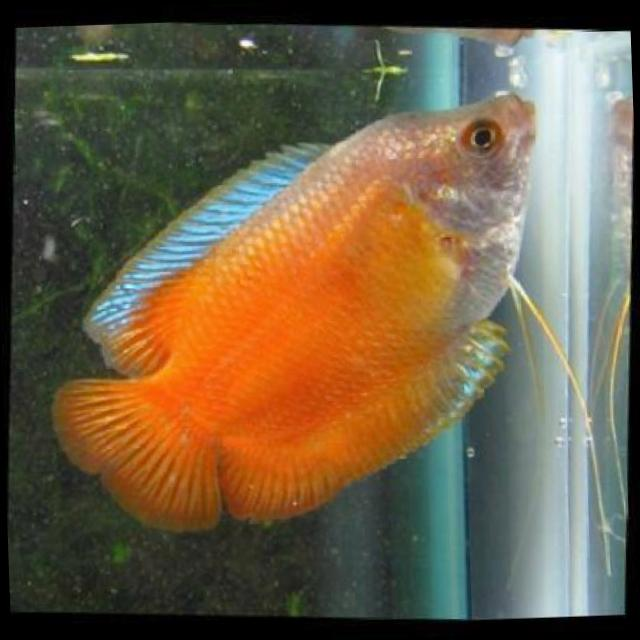Gourami: (38, 86, 556, 544)
